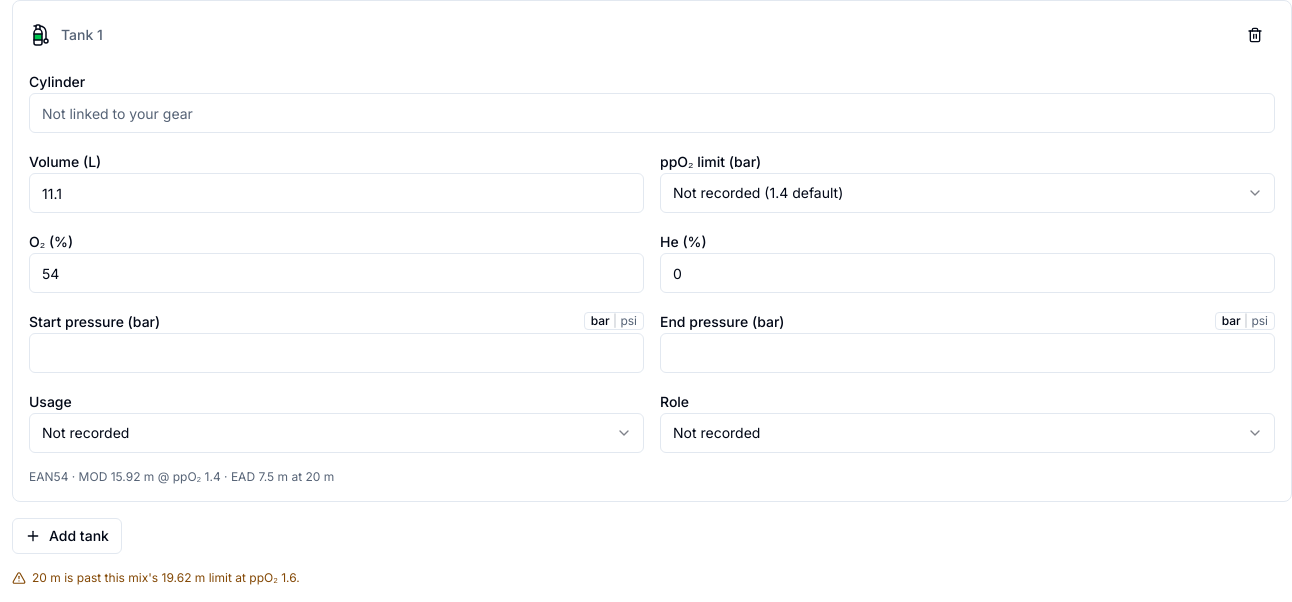
it: MixtureFields ppO₂ limit picker › selects a limit the diver picks
Select "1.6" in the dropdown labelled "ppO₂ limit (bar)". click: (968, 193)
box: 660,173 -> 1275,213
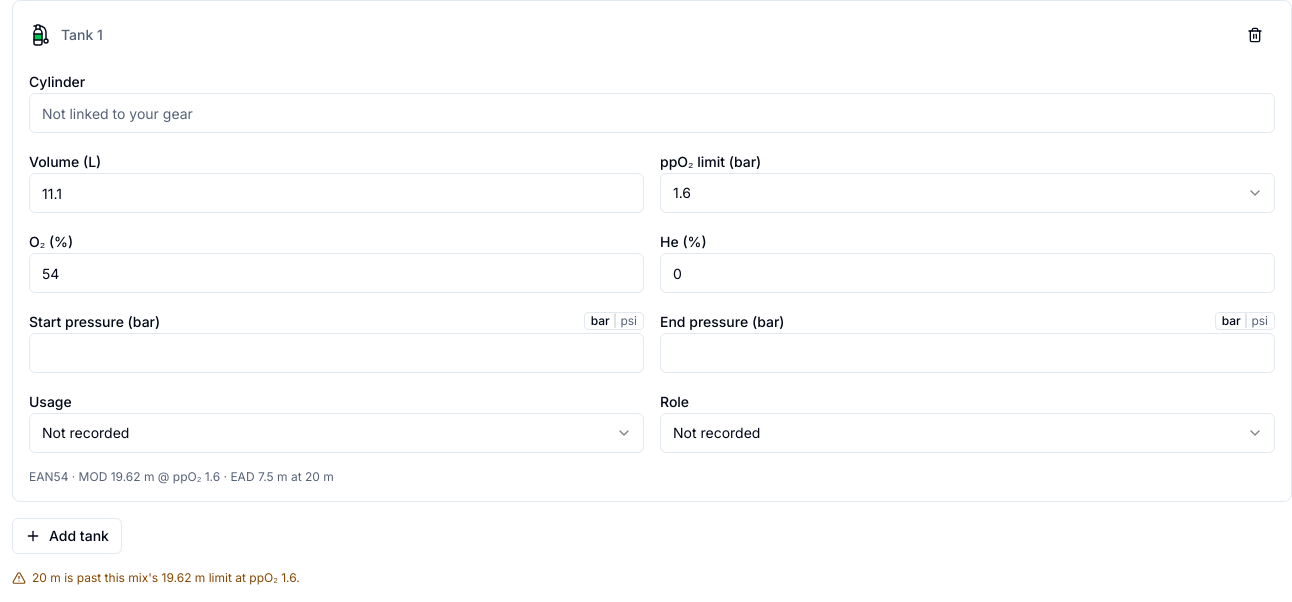
Now the text "EAN54 · MOD 19.62 m @ ppO₂ 1.6 · EAD 7.5 m at 20 m" is shown, box 29,469 -> 334,484
